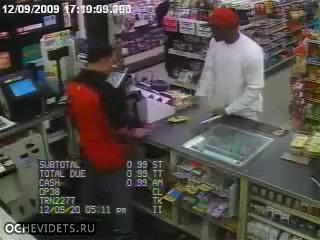non-violence: (62, 41, 150, 237), (196, 10, 266, 125)
weapon: (199, 106, 223, 125)
